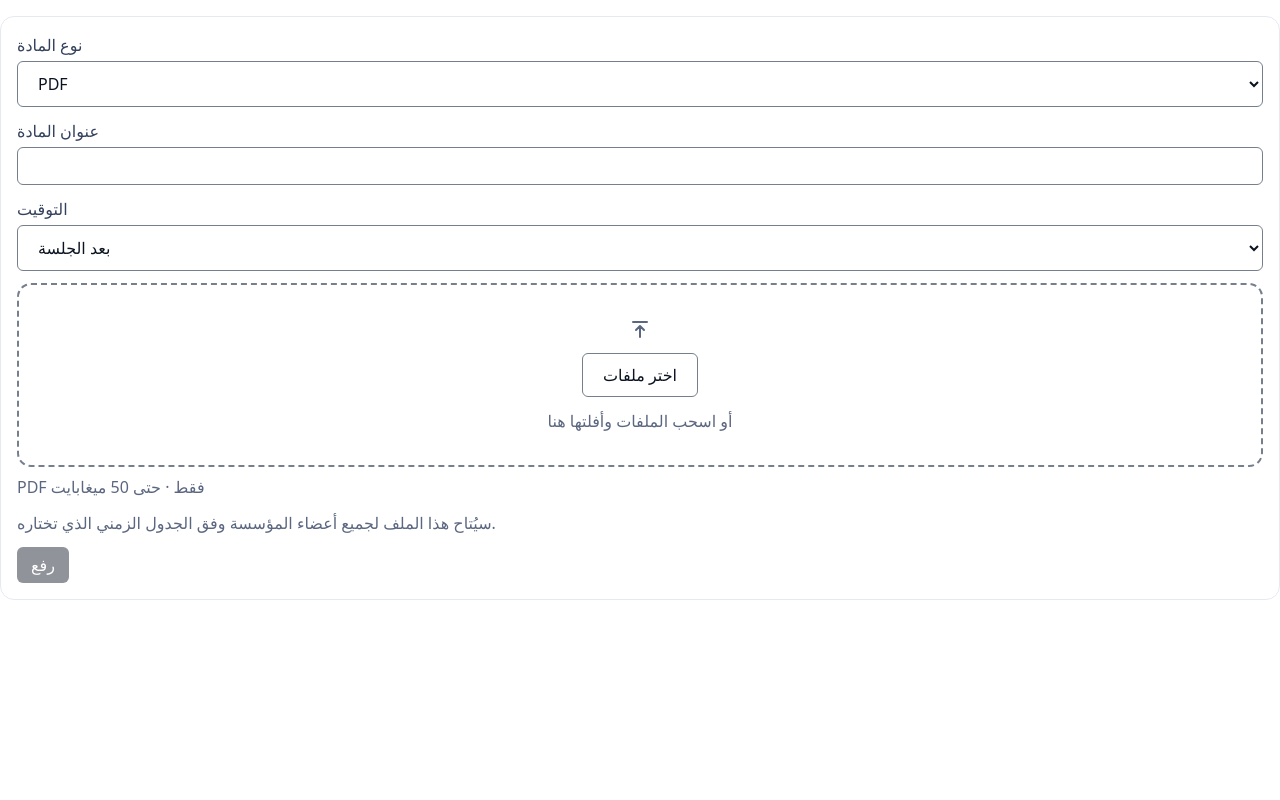
Test: UploadForm › the requirement line updates when the kind changes — image shows the org's own 20 MB limit
The width and height of the screenshot is (1280, 800).
Select "صورة" in the dropdown labelled "نوع المادة" at coordinates (640, 84), box [17,61,1263,107]
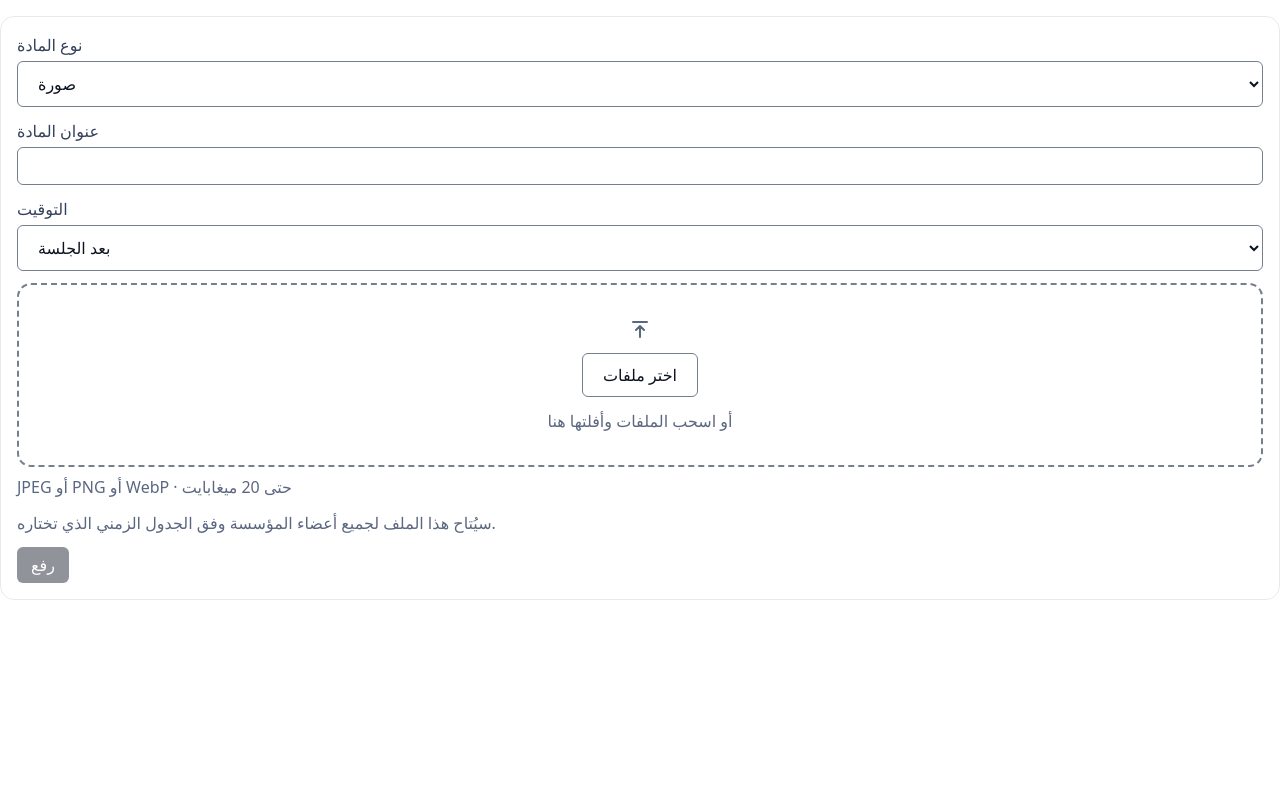
Expected: the list item "JPEG أو PNG أو WebP · حتى 20 ميغابايت" is shown, [17,476,292,498]
